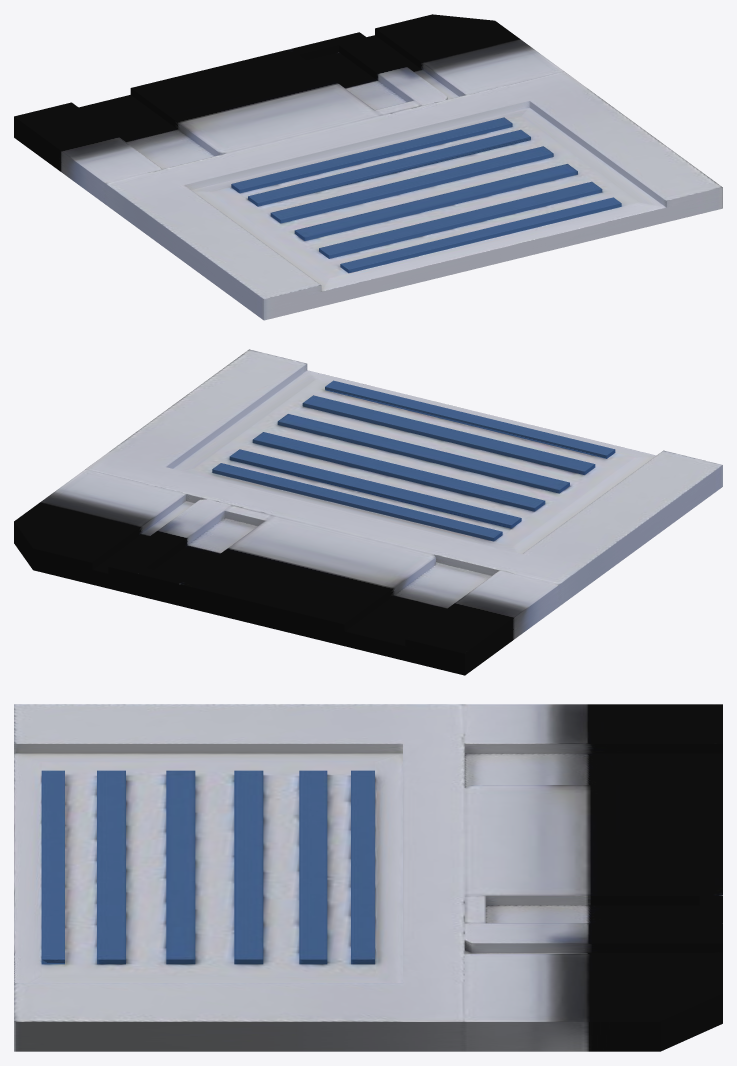
The model's file is Web_GK_Floppy_Disk_New.glb.
The picture shows the model from 3 angles, top to bottom: view 1: azimuth 30°, elevation 25°; view 2: azimuth 150°, elevation 25°; view 3: azimuth 270°, elevation 25°; orthographic projection. The views are drawn at different scales.
Parts seen in each view (by area): view 1: Cube.013; view 2: Cube.013; view 3: Cube.013.
Boxes of the visible parts, box(x1,y1,x2,y2) form: Cube.013: box(14, 14, 722, 320); Cube.013: box(14, 349, 722, 675); Cube.013: box(14, 704, 722, 1051).
Bounding box in the file's own units: 0.7806 × 0.0343 × 0.7362.
Materials: 1 (1 with a texture image).
